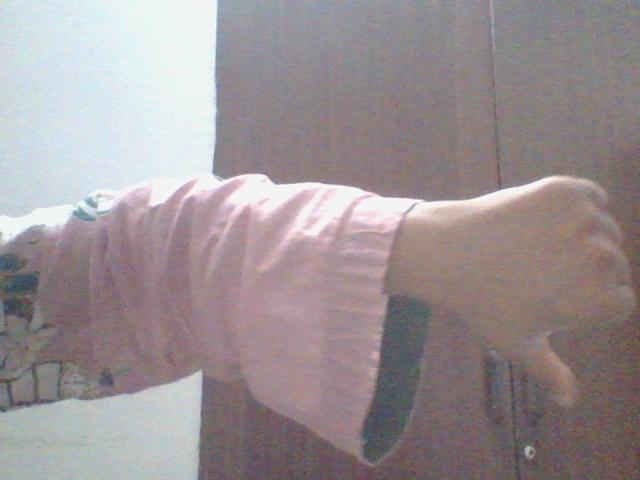thumbs-down: (471, 171, 640, 426)
